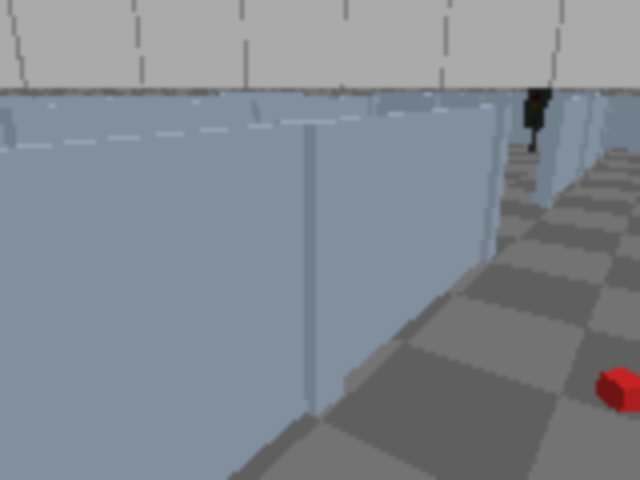puck: (595, 368, 638, 414)
traffic_light: (519, 85, 555, 154)
